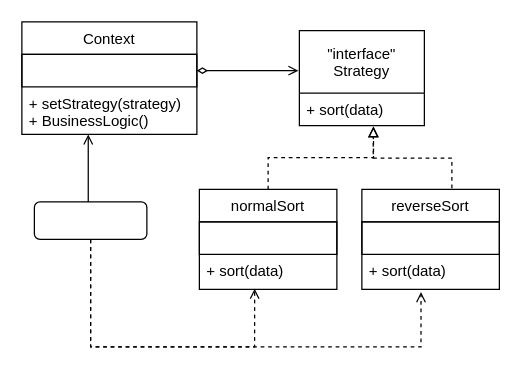
Some shapes in this 521 by 379 pixel diagram are drawn without their labels. Each missing label, with the box of its shape:
- strategy: (21, 53, 197, 87)
Client: (33, 201, 147, 239)
